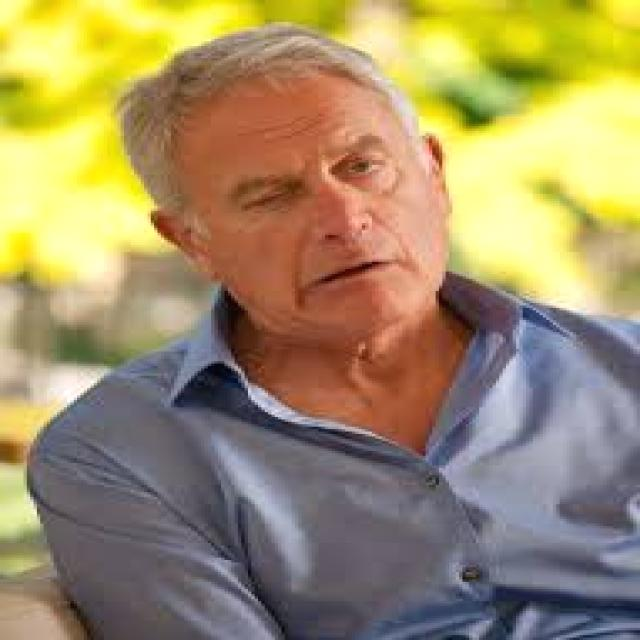stroke_face: (182, 45, 457, 339)
